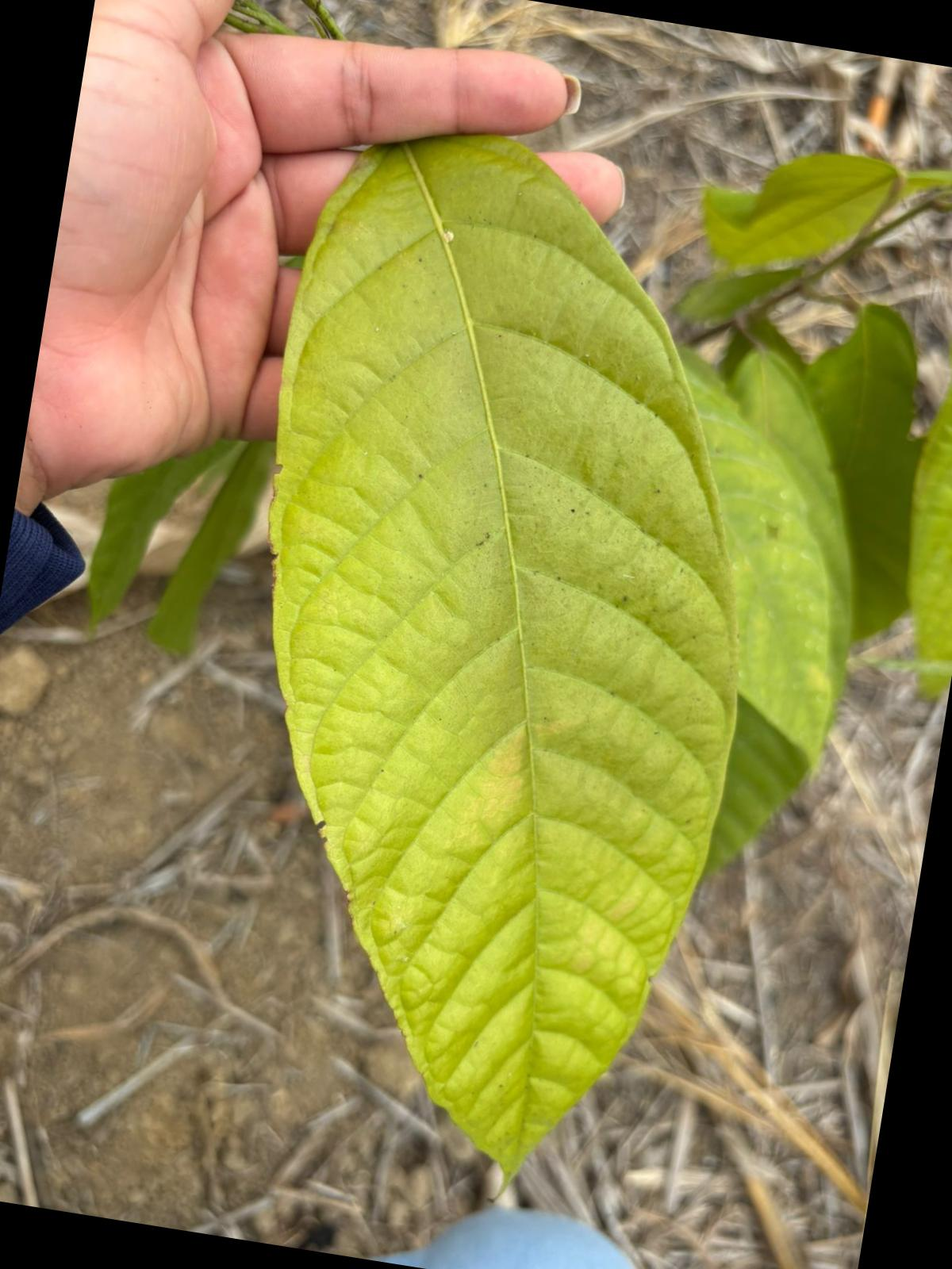Nitrogeno: (270, 137, 735, 1177)
